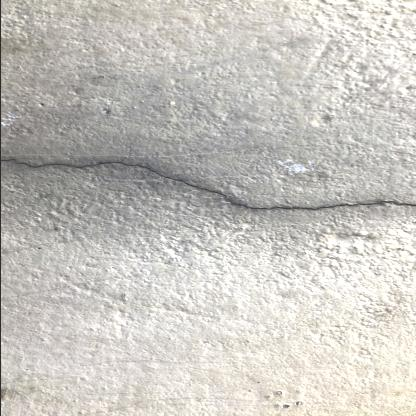crack: (0, 159, 416, 210)
